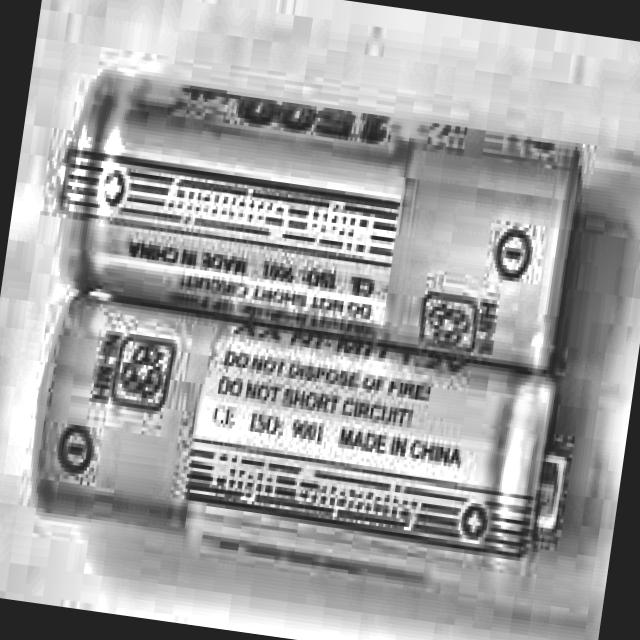Battery: (22, 290, 585, 620), (51, 70, 586, 363)
